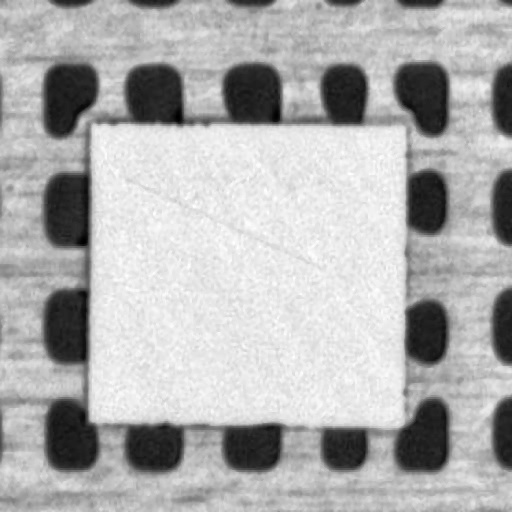DIE_CRACK: (155, 130, 430, 202)
